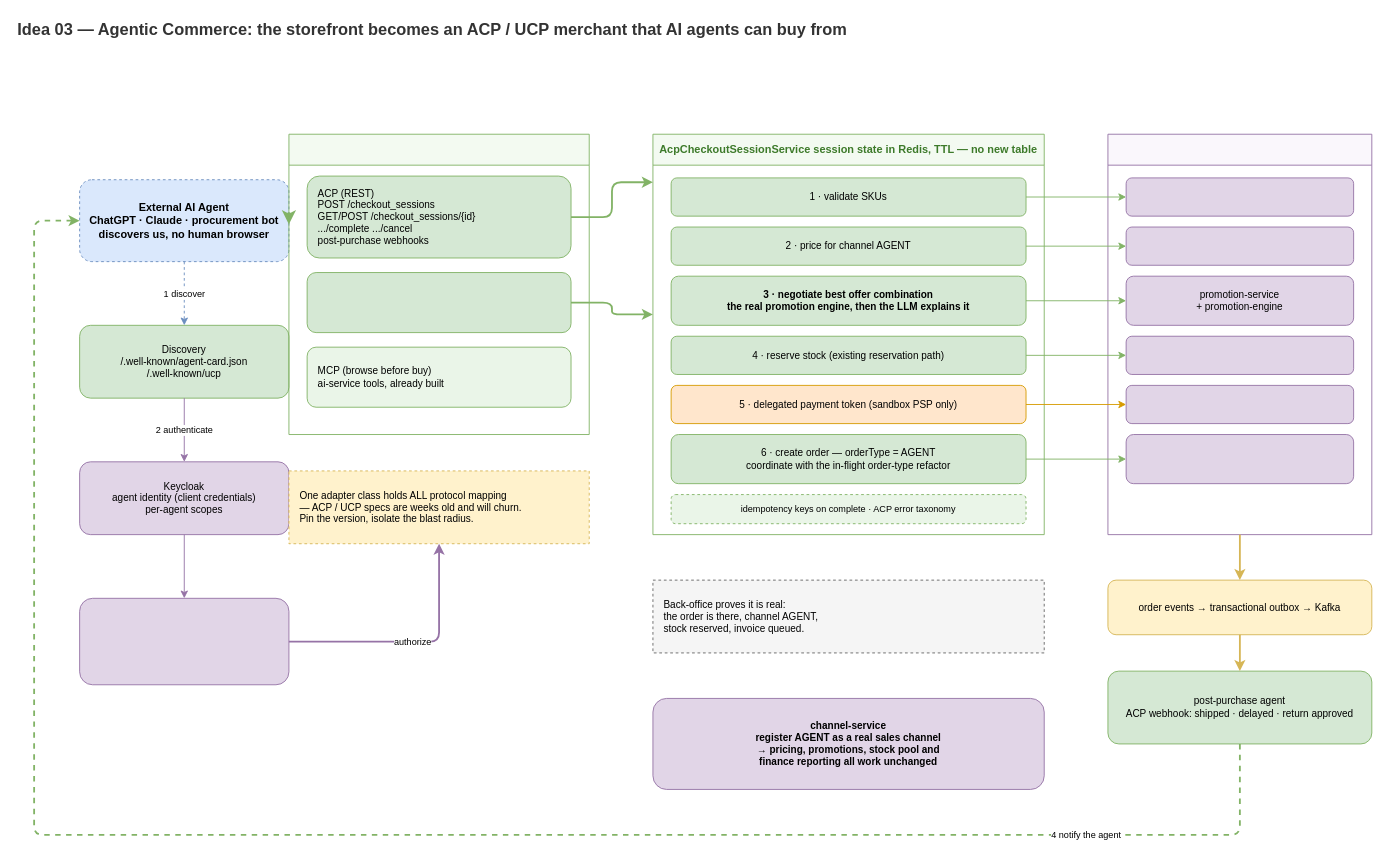
The diagram is 1388 pixels wide and 858 high, and some of its shapes have lost their labels. Each missing label, with the box of its shape:
3 · Protocol surface — new endpoints in ecommerce-bff: (288, 133, 589, 435)
Existing services — nothing forked, no fast path: (1107, 133, 1372, 535)
goods-service: (1125, 177, 1354, 216)
OPA policy spend cap · category cap per session / day DENY is the default: (79, 597, 289, 685)
order-service + after-sales-service: (1125, 434, 1354, 484)
payment-service: (1125, 384, 1354, 424)
price-service: (1125, 226, 1354, 265)
stock-service: (1125, 335, 1354, 374)
UCP (A2A JSON-RPC) POST /a2a capability advertisement: (306, 272, 571, 333)
